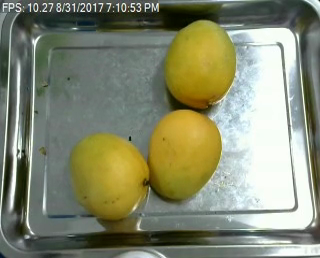Mango: (142, 108, 225, 206), (161, 16, 239, 114), (71, 126, 149, 223)
